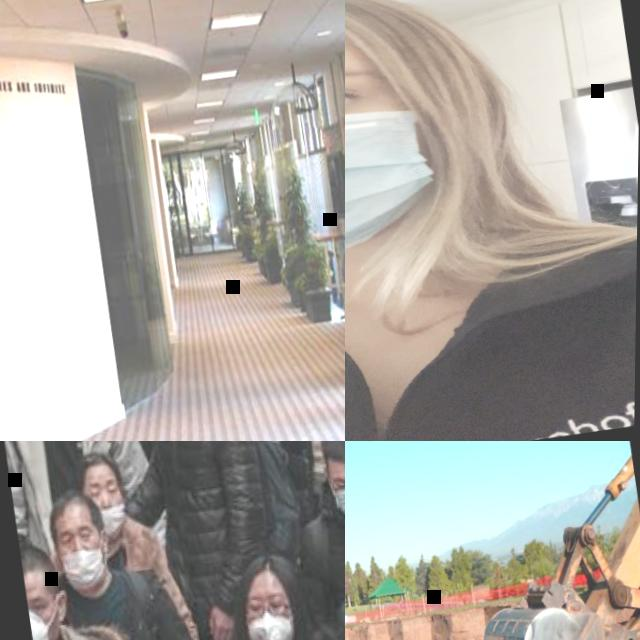Mask: (345, 93, 444, 273), (59, 548, 114, 596), (246, 607, 300, 640), (29, 603, 68, 640), (99, 504, 132, 538), (331, 479, 345, 521)
NO-Hardhat: (345, 0, 435, 105), (242, 547, 296, 593), (45, 486, 101, 527), (19, 531, 58, 588), (80, 448, 114, 482), (316, 441, 345, 468)
NO-Safety Vest: (345, 204, 638, 441), (148, 441, 261, 598), (0, 441, 125, 538), (59, 565, 169, 640), (306, 506, 345, 616), (105, 534, 165, 586)
Person: (345, 0, 640, 441), (89, 441, 296, 640), (37, 472, 209, 640), (68, 441, 213, 640), (0, 441, 174, 580), (200, 536, 343, 640), (275, 441, 345, 627), (17, 522, 116, 640)
vehicle: (450, 444, 640, 640)
